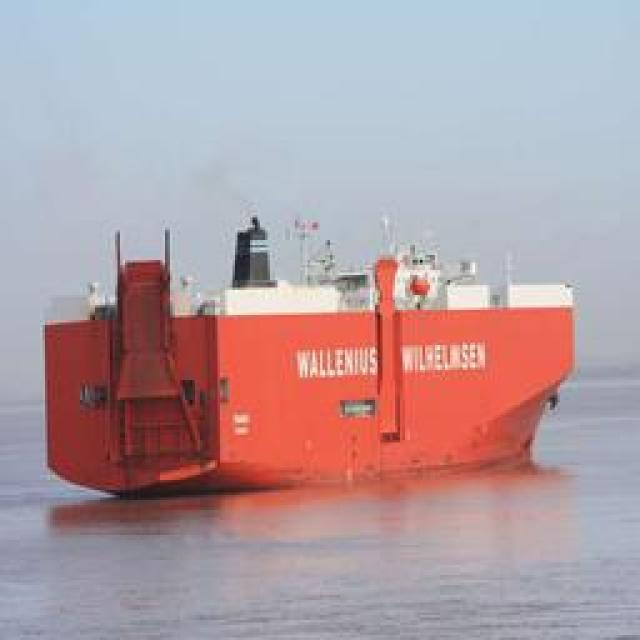CIV_Ship: (40, 224, 568, 492)
